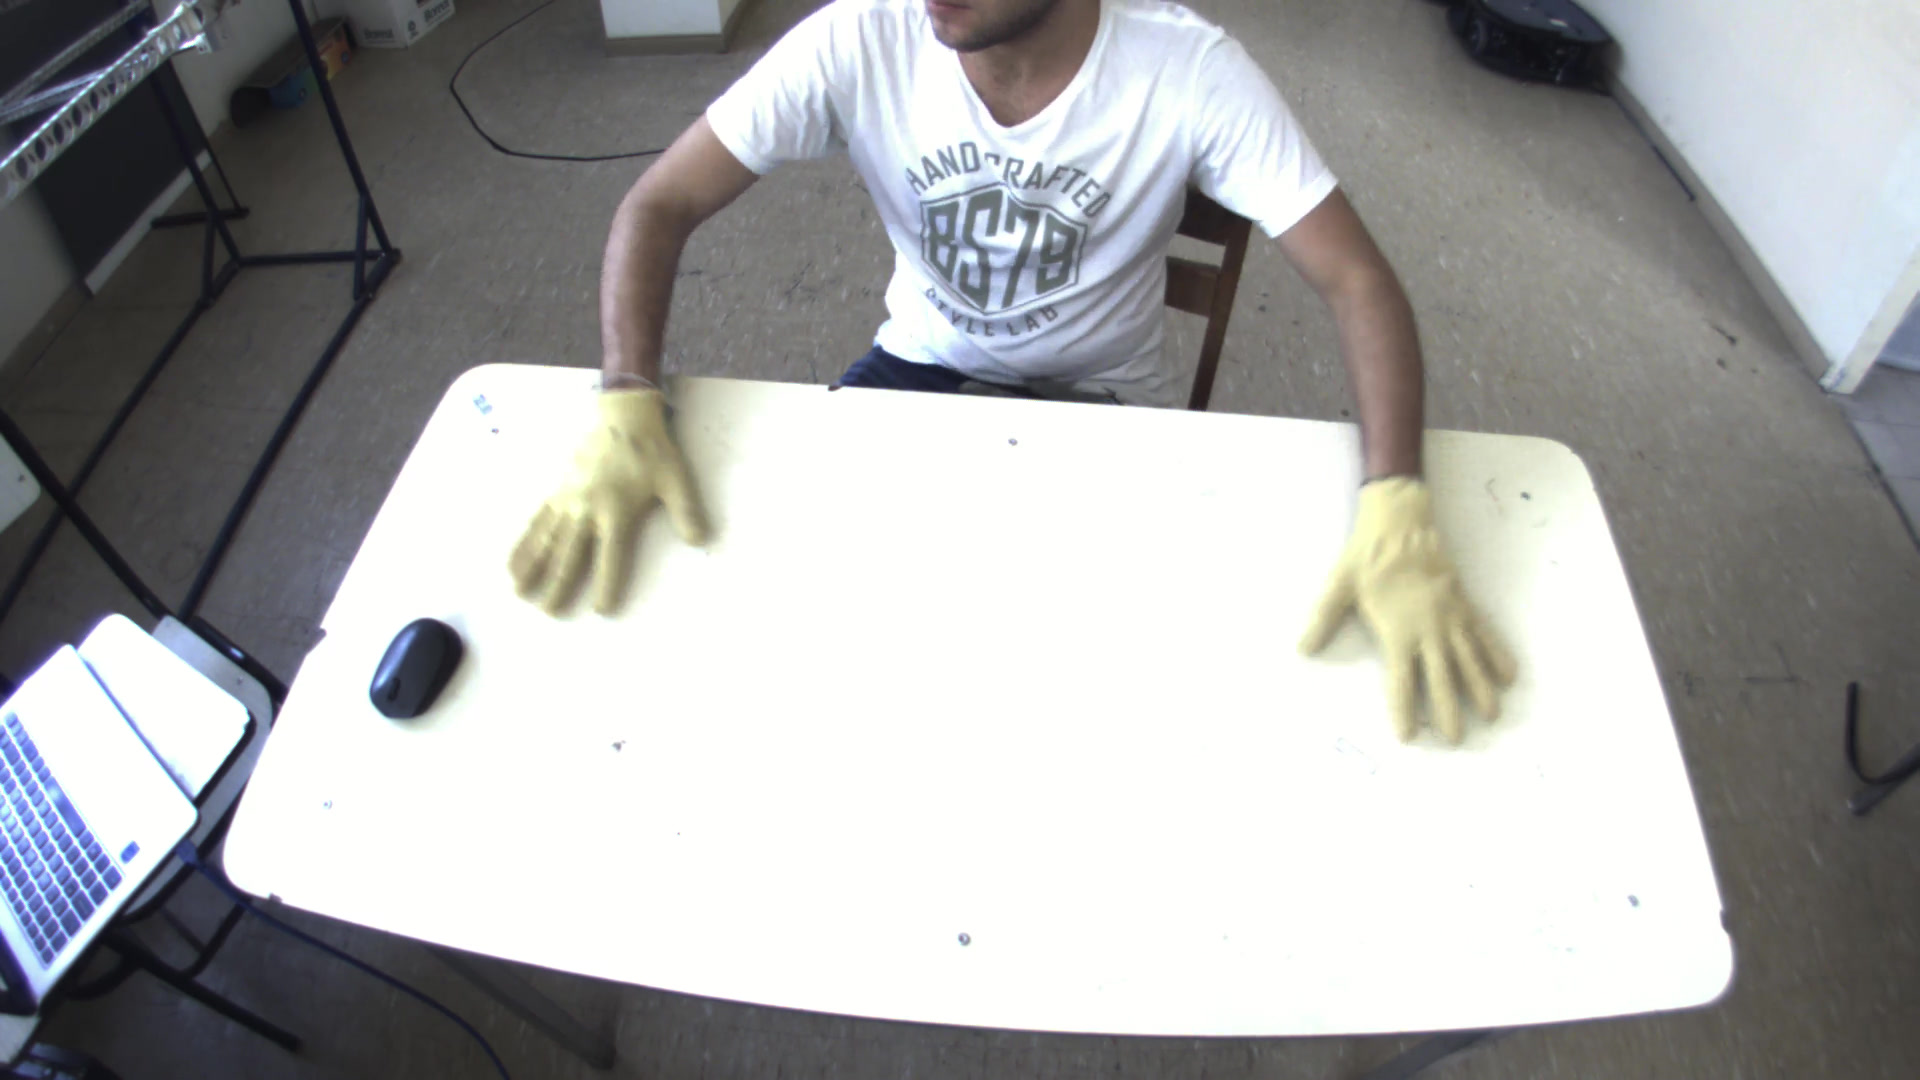hand: (1303, 471, 1531, 756), (491, 363, 728, 626)
